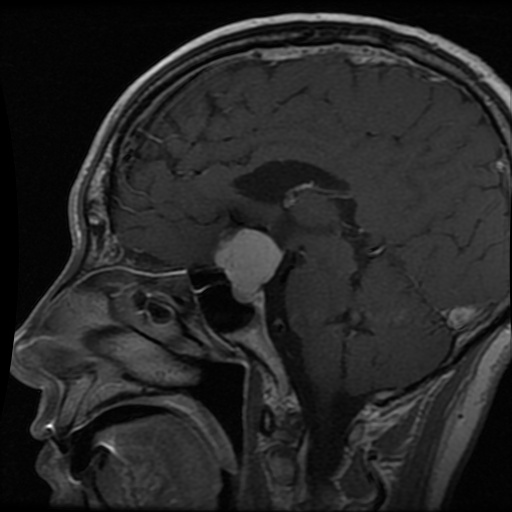meningioma: (216, 227, 280, 301)
